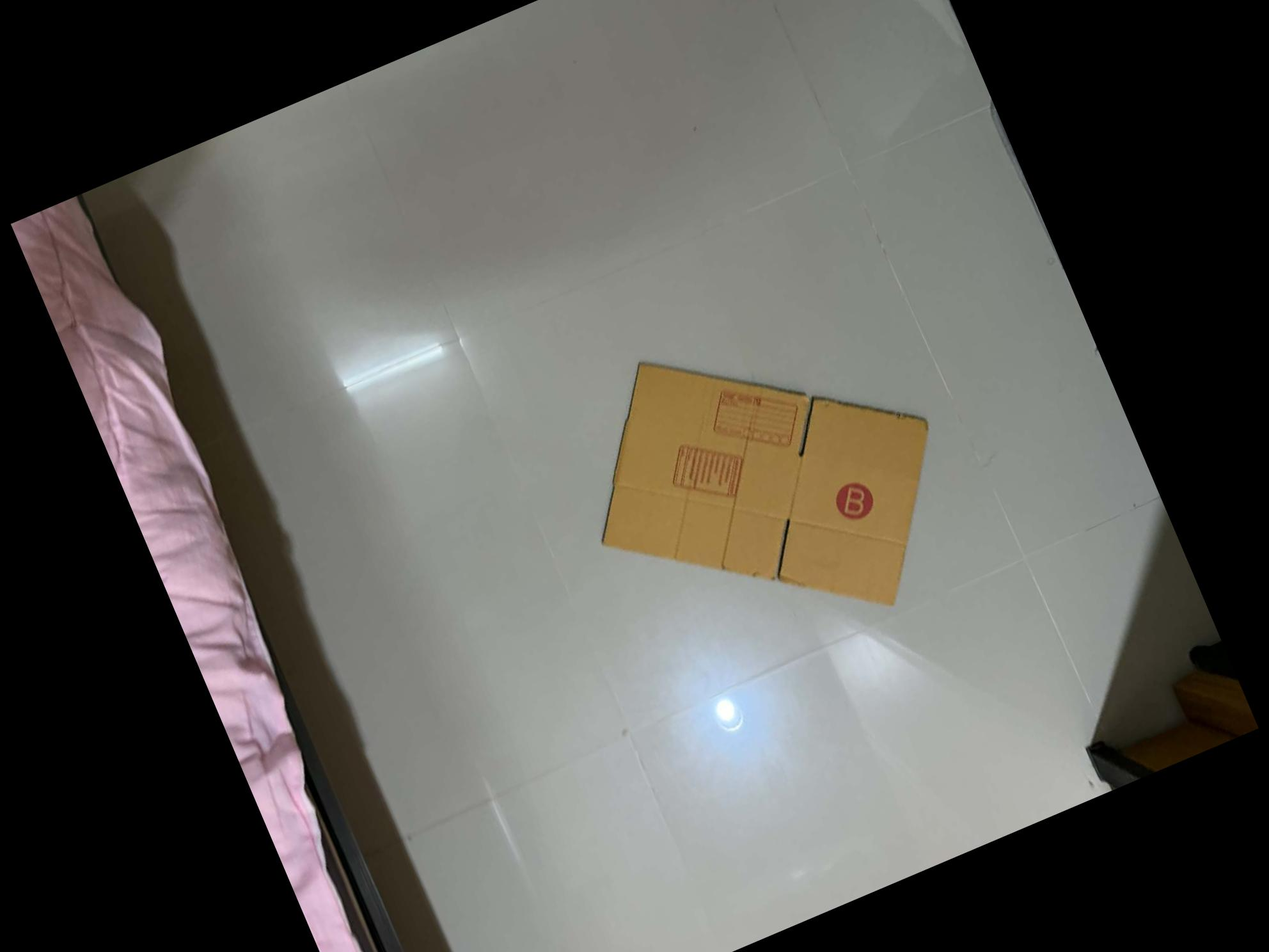box: (702, 362, 825, 466), (658, 428, 752, 510), (823, 474, 880, 530)
class0: (534, 256, 998, 709)
